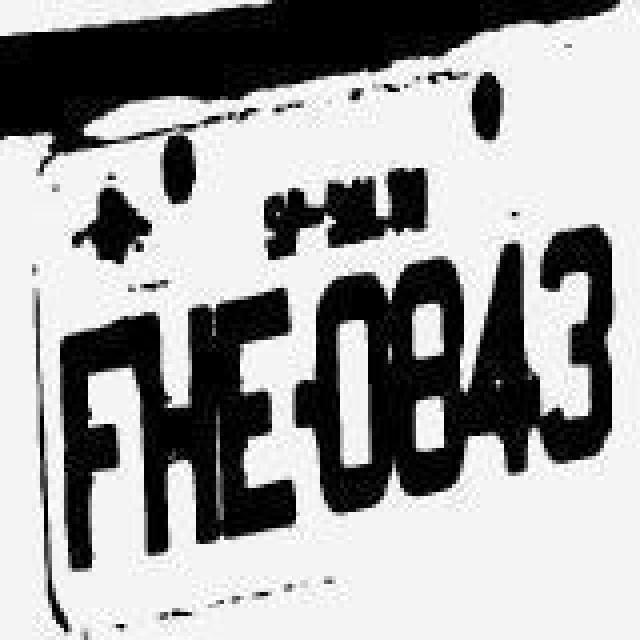3: (538, 220, 622, 460)
4: (466, 240, 542, 472)
8: (388, 250, 476, 494)
E: (214, 288, 298, 544)
F: (56, 308, 136, 572)
H: (136, 302, 216, 562)
O: (318, 266, 402, 518)
